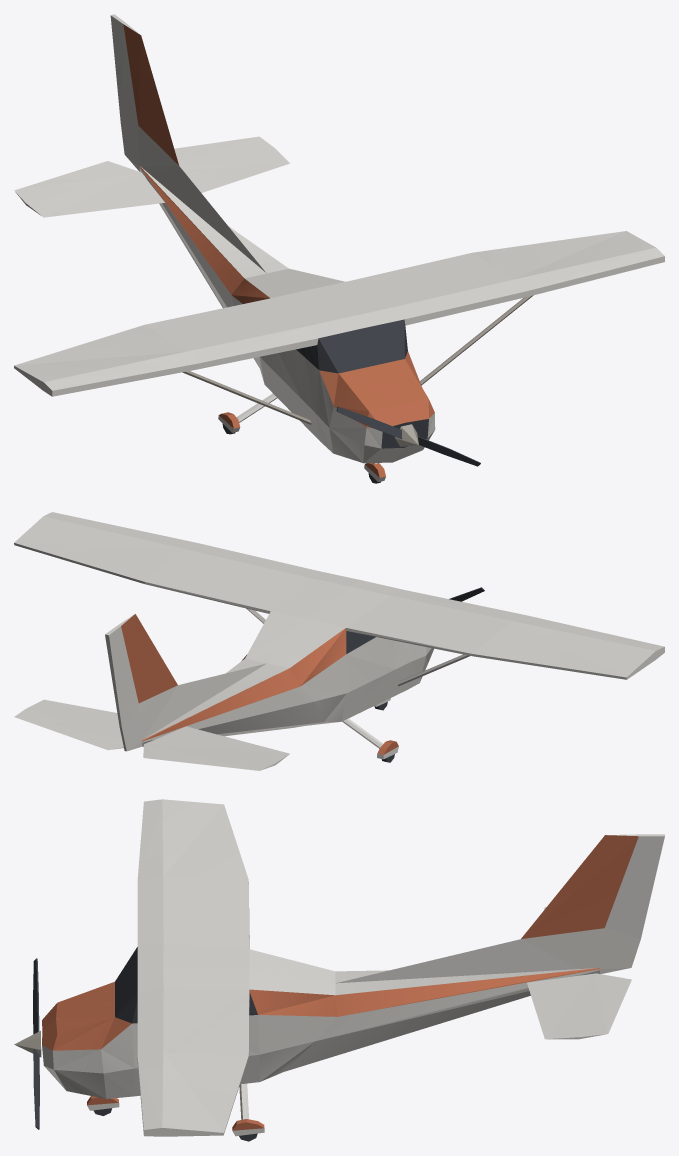
The model's file is small_plane.glb.
3 renders of one model, top to bottom at view 1: azimuth 30°, elevation 25°; view 2: azimuth 150°, elevation 25°; view 3: azimuth 270°, elevation 25°, orthographic. The views are drawn at different scales.
Parts seen in each view (by area): view 1: small_plane; view 2: small_plane; view 3: small_plane.
Part boxes in pixels (x1,y1,x2,y2): small_plane: (14,14,664,483); small_plane: (14,512,664,770); small_plane: (14,799,664,1141).
Bounding box in the file's own units: 10 × 4.21 × 8.79.
